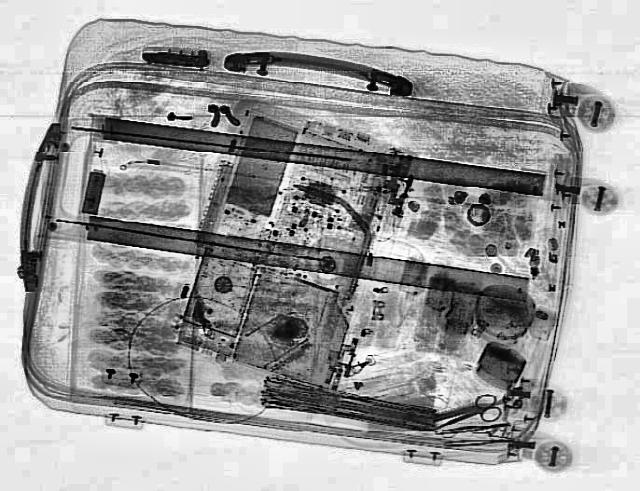Scissors: (418, 390, 508, 440)
